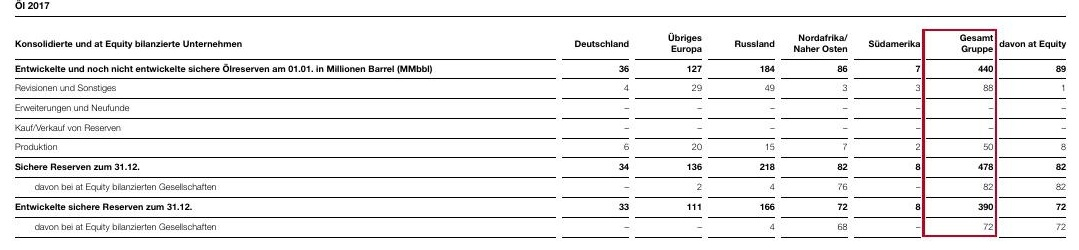table: (0, 0, 1079, 250)
